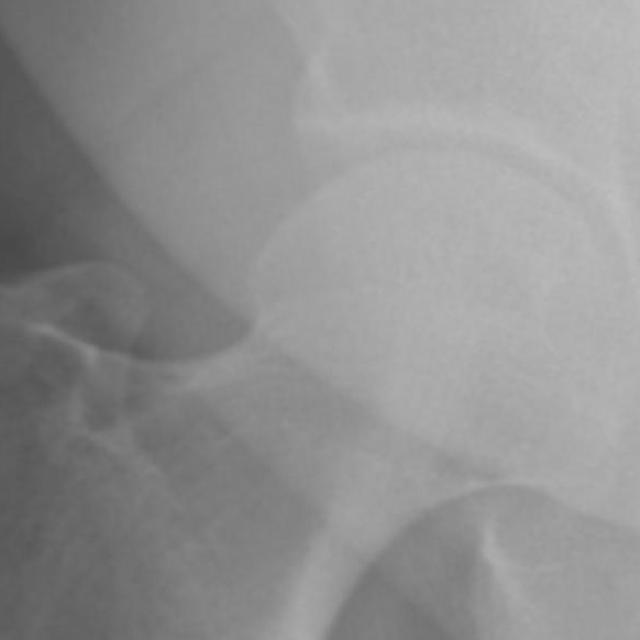Fitted_femural_head: (393, 152, 432, 393)
